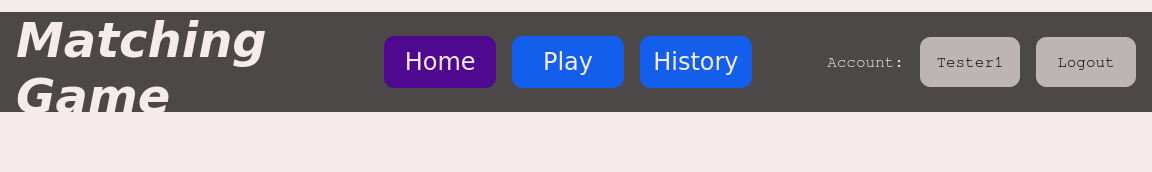
Header component › Tests when the user is logged in › Clicking the 'Logout' button logs the user out
Click the button "Logout". click: click(1086, 62)
box: [1036, 37, 1136, 87]
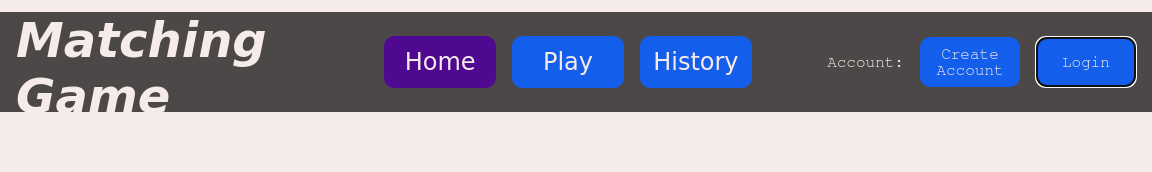
Result: the button "Login" is shown at [1036, 37, 1136, 87]
Result: the button "Create Account" is shown at [920, 37, 1020, 87]
